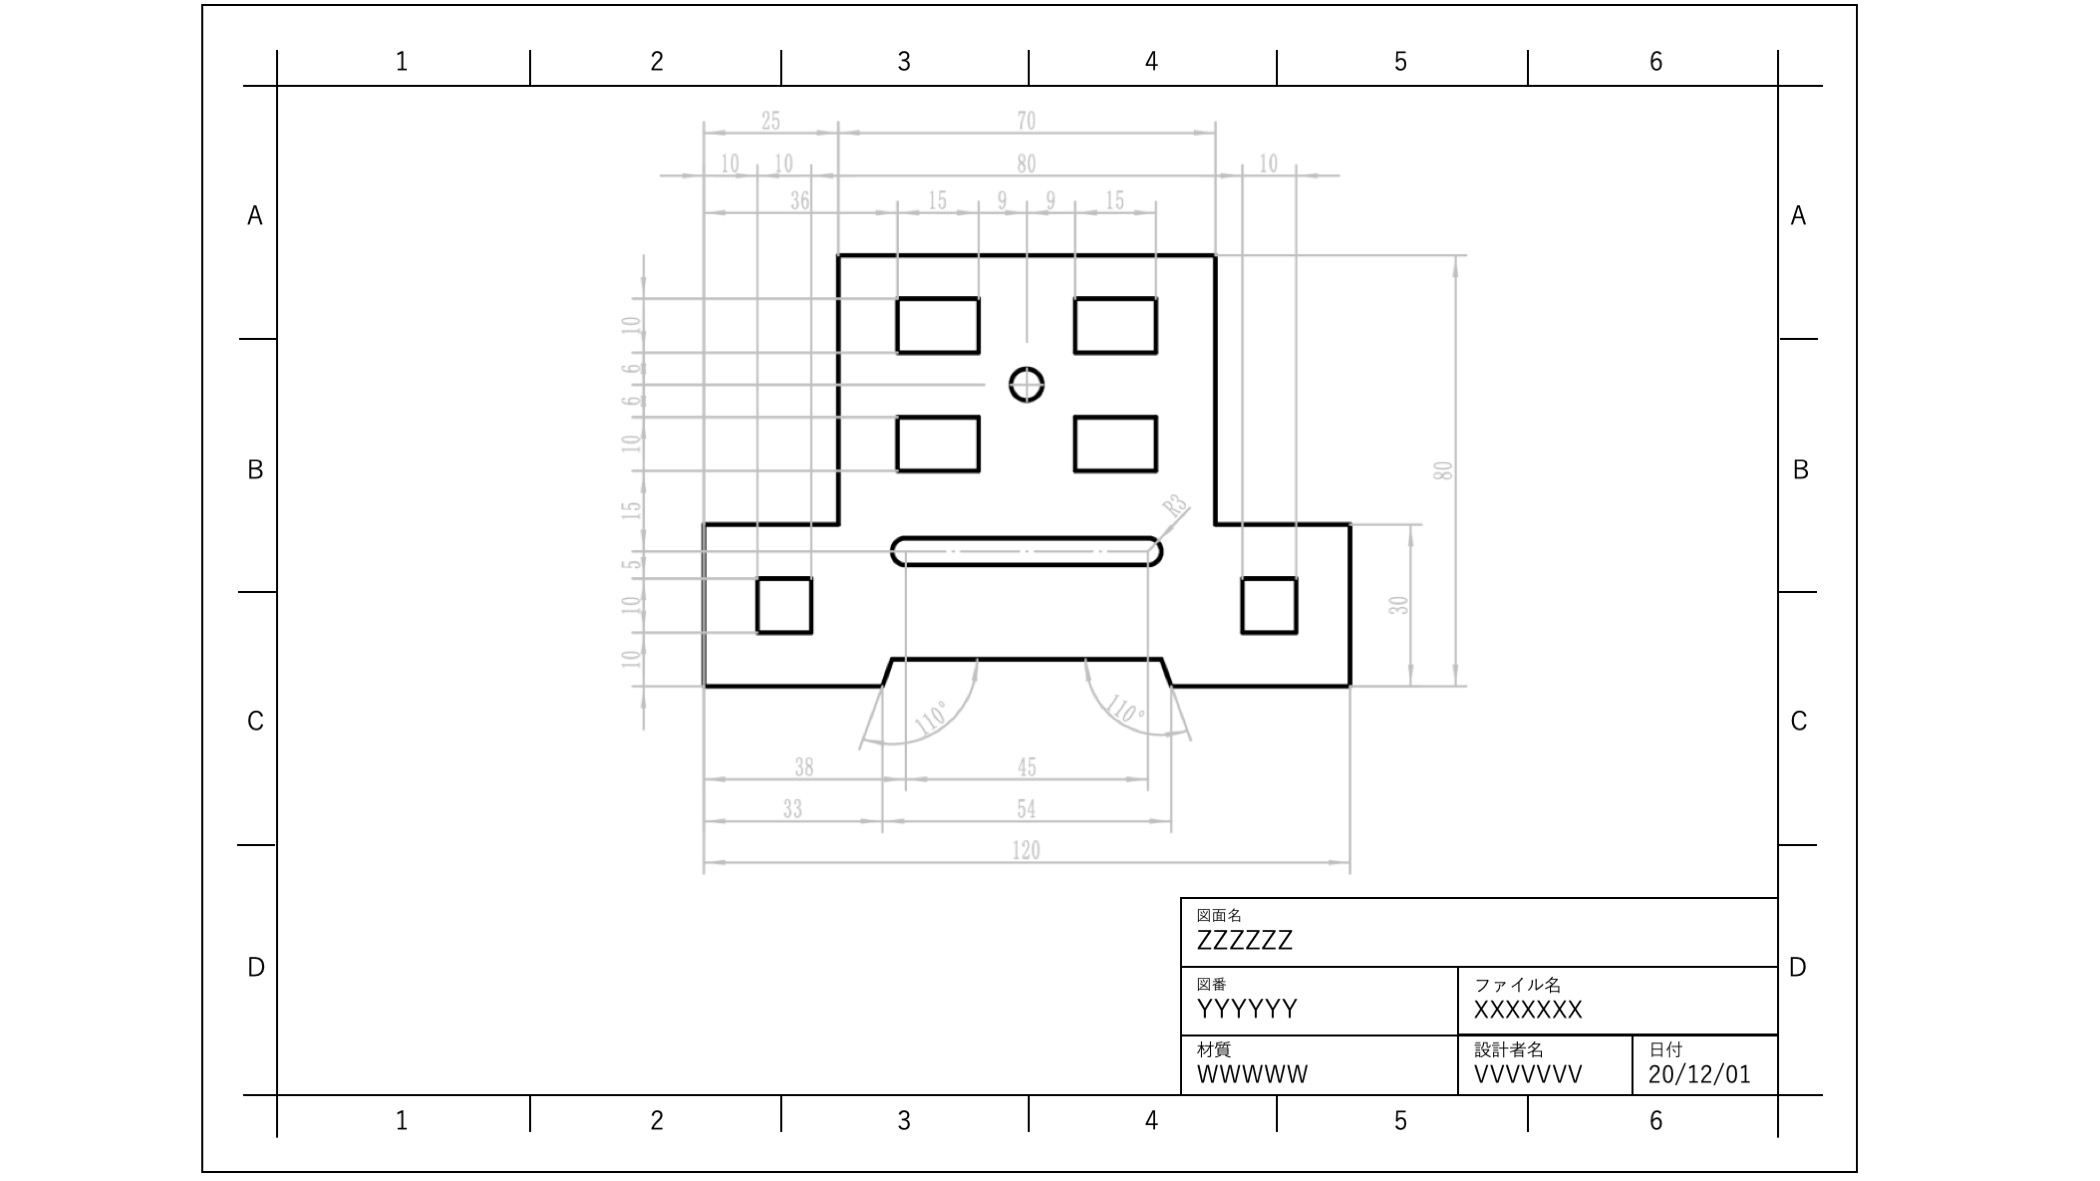circle: (997, 361, 1064, 410)
rectangle: (1060, 286, 1173, 361), (1059, 407, 1178, 473), (893, 407, 1011, 473), (887, 286, 987, 362), (1230, 570, 1308, 642), (746, 570, 821, 643)
round_rectangle: (877, 521, 1165, 577)
